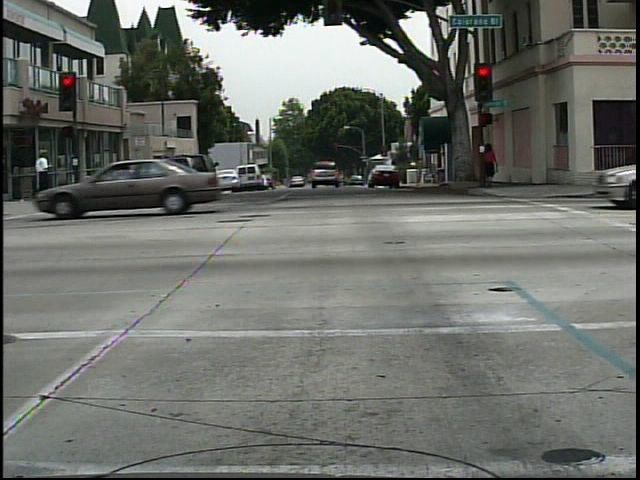person: (29, 143, 57, 194), (482, 140, 502, 191)
